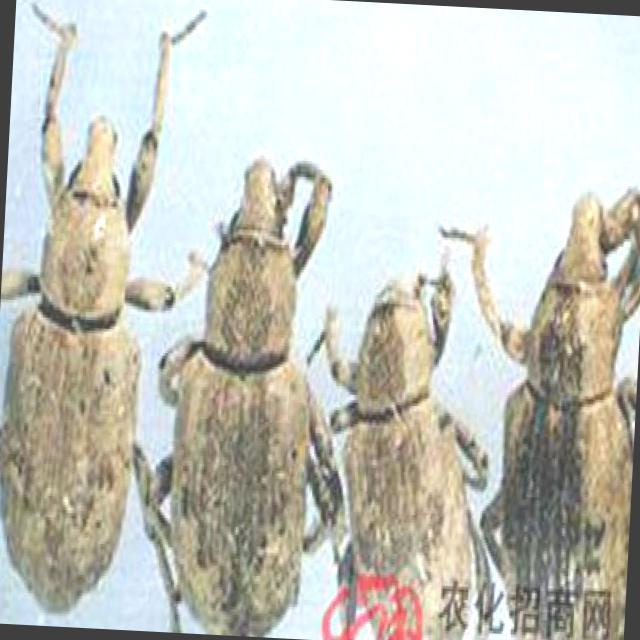ricebug: (0, 6, 203, 612), (141, 159, 331, 635), (480, 190, 639, 639), (321, 272, 487, 639)
